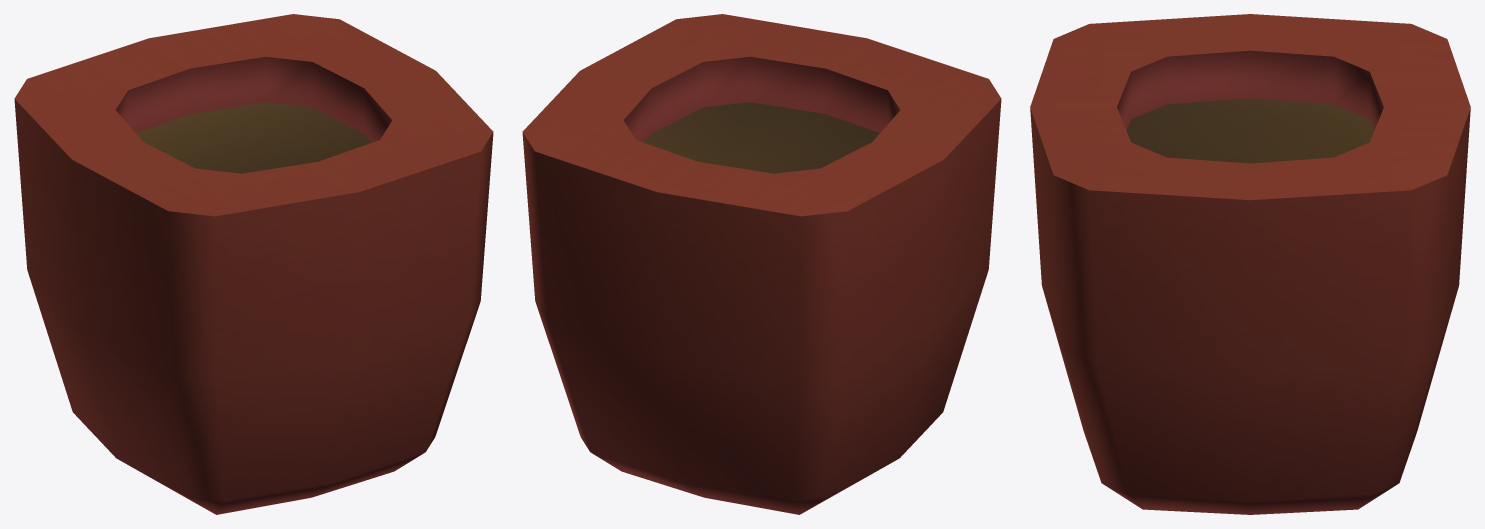
The model's file is flower_pot_red.fbx.
3 views of the same model, side by side, from view 1: azimuth 30°, elevation 25°; view 2: azimuth 150°, elevation 25°; view 3: azimuth 270°, elevation 25° (orthographic). The views are drawn at different scales.
Parts seen in each view (by area): view 1: flower_pot_red; view 2: flower_pot_red; view 3: flower_pot_red.
Boxes of the visible parts, <box> form: flower_pot_red: <box>14,14,493,514</box>; flower_pot_red: <box>522,14,1001,514</box>; flower_pot_red: <box>1030,14,1470,514</box>.
Bounding box in the file's own units: 42.26 × 37.77 × 42.26.
